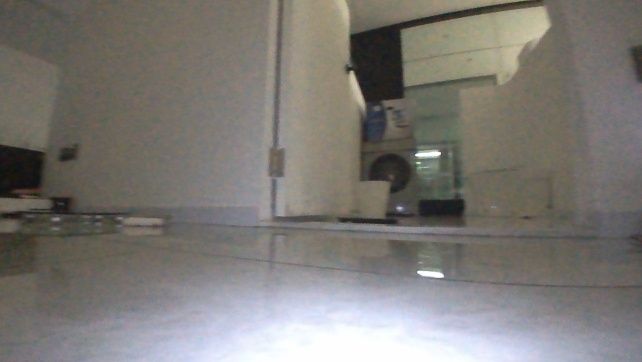toilet: (456, 161, 574, 227)
washing_machine: (354, 132, 435, 219)
